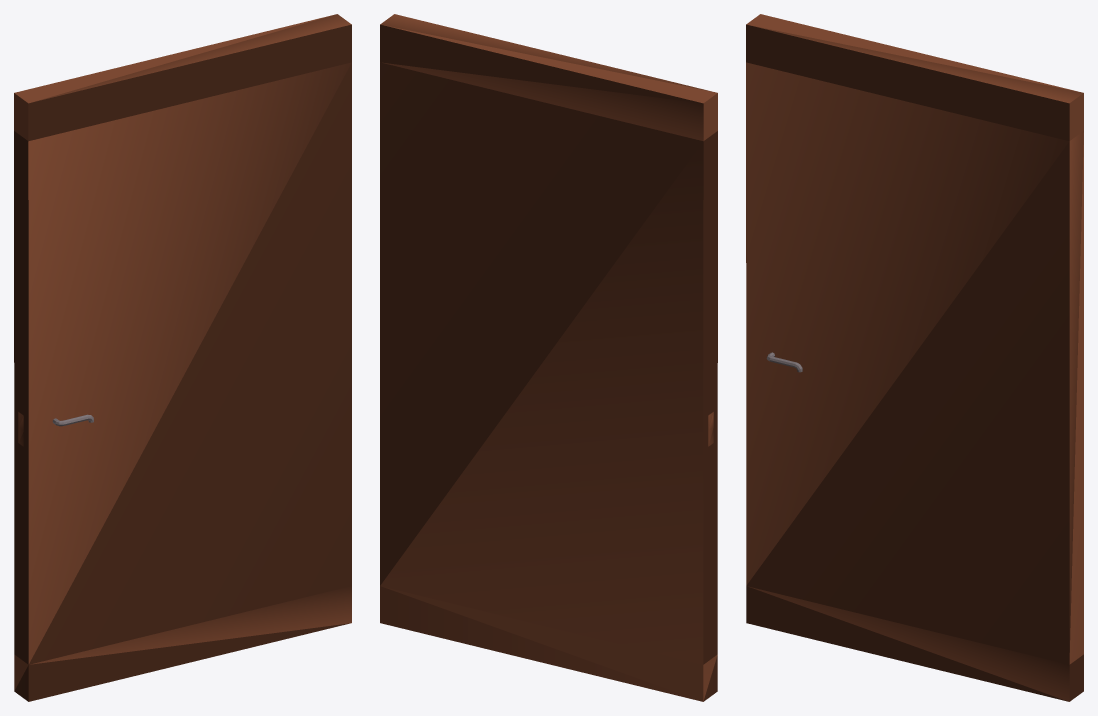
The model's file is door.fbx.
The picture shows the model from 3 angles, left to right: view 1: azimuth 30°, elevation 25°; view 2: azimuth 150°, elevation 25°; view 3: azimuth 330°, elevation 25°; orthographic projection.
Visible parts, largest first — view 1: Door; view 2: Door; view 3: Door.
Boxes of the visible parts, x1,y1,x2,y2 form: Door: (14, 14, 351, 701); Door: (380, 14, 717, 701); Door: (746, 14, 1083, 701).
Size of the model in its own units: 130 by 230 by 14.16.
